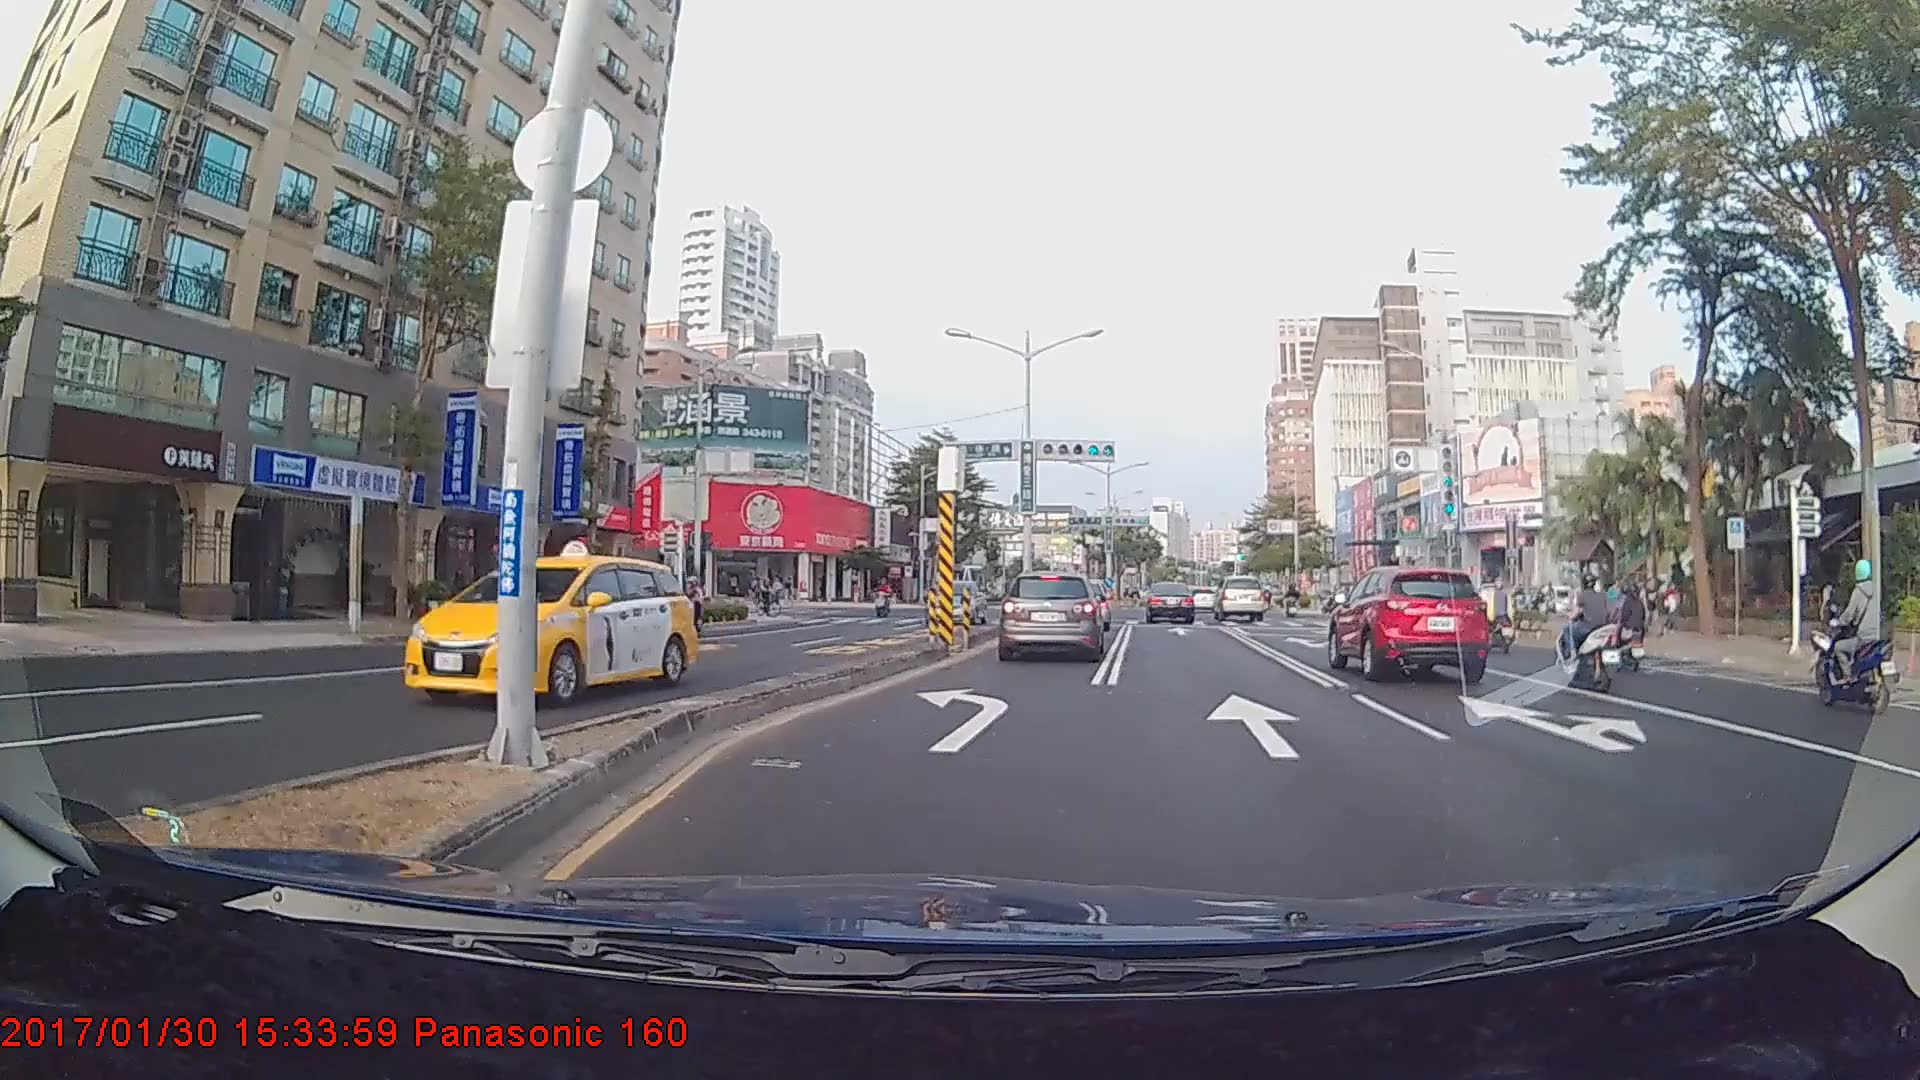rider: (1808, 558, 1894, 724), (1555, 569, 1632, 691)
vehicle: (397, 556, 692, 705), (1328, 562, 1491, 682), (999, 570, 1103, 662), (922, 579, 988, 624), (1212, 575, 1267, 622), (1143, 581, 1195, 624)
